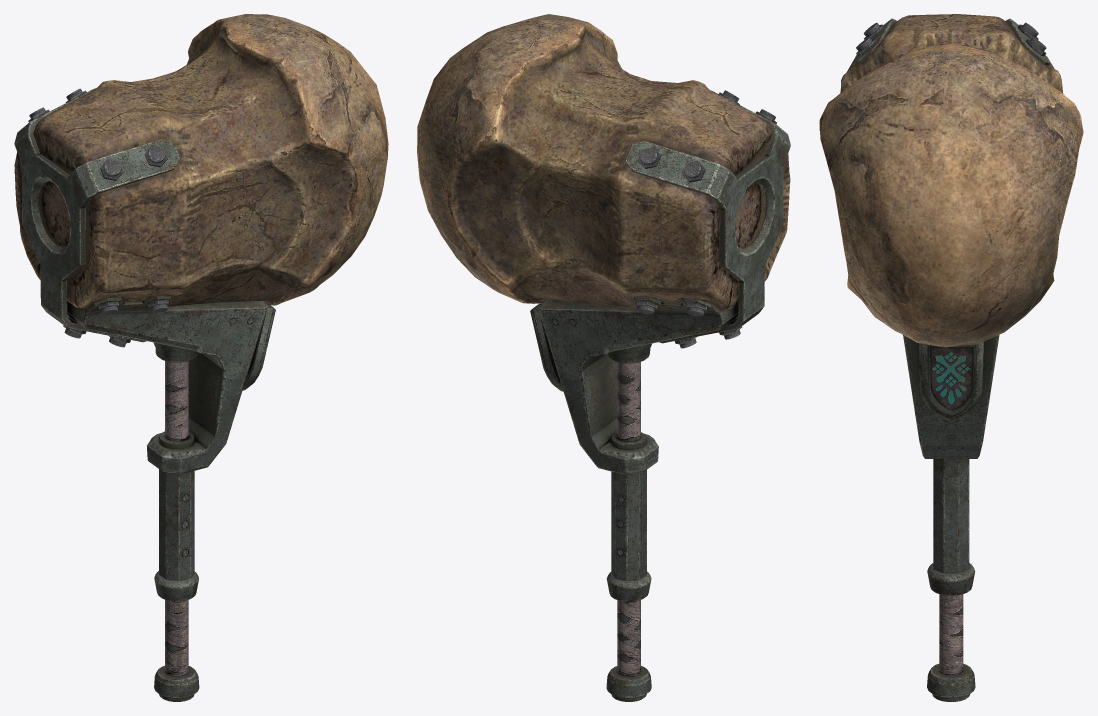
File: bs_ham003.obj
The picture shows the model from 3 angles, left to right: view 1: azimuth 30°, elevation 25°; view 2: azimuth 150°, elevation 25°; view 3: azimuth 270°, elevation 25°; orthographic projection. The views are drawn at different scales.
Visible parts, largest first — view 1: bs_ham003_000_LOD_1; view 2: bs_ham003_000_LOD_1; view 3: bs_ham003_000_LOD_1.
Part boxes in pixels (x1,y1,x2,y2): bs_ham003_000_LOD_1: [14, 14, 388, 701]; bs_ham003_000_LOD_1: [417, 14, 790, 701]; bs_ham003_000_LOD_1: [819, 14, 1083, 701].
Size of the model in its own units: 95.55 by 180 by 62.98.
